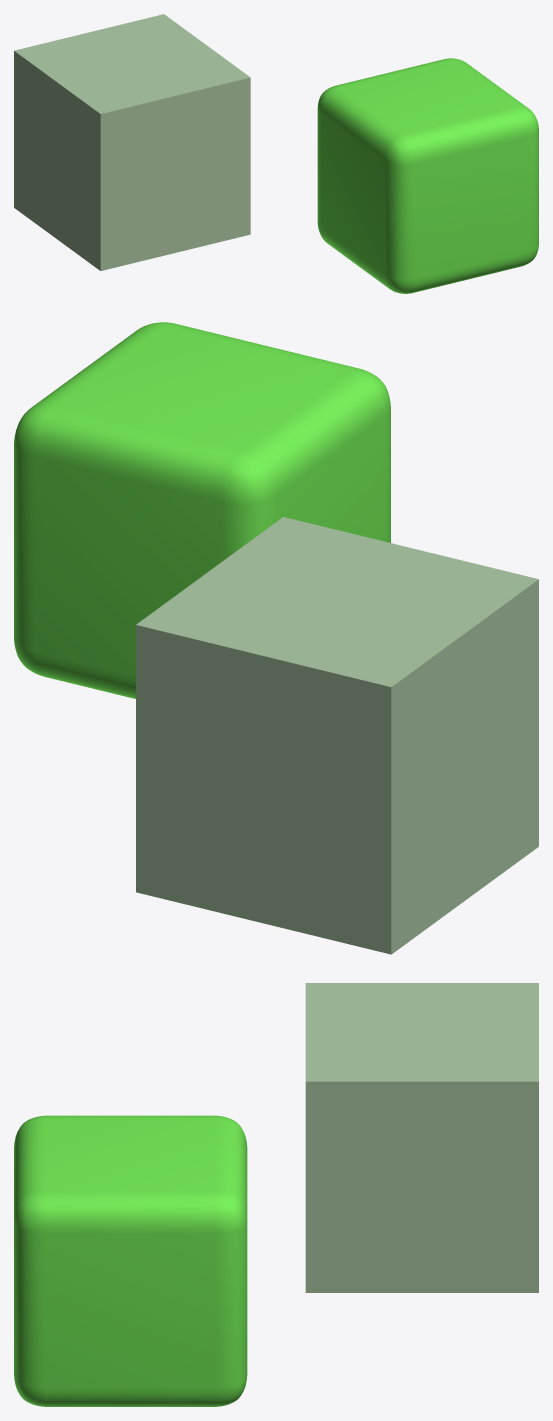
The model's file is biaisdecontour.gltf.
3 renders of one model, top to bottom at view 1: azimuth 30°, elevation 25°; view 2: azimuth 150°, elevation 25°; view 3: azimuth 270°, elevation 25°, orthographic. The views are drawn at different scales.
Parts seen in each view (by area): view 1: Box002, Box003; view 2: Box002, Box003; view 3: Box002, Box003.
Boxes of the visible parts, <box> form: Box002: <box>14,14,250,270</box>; Box003: <box>317,58,538,293</box>; Box002: <box>136,517,538,954</box>; Box003: <box>14,322,390,698</box>; Box002: <box>305,983,538,1292</box>; Box003: <box>14,1115,247,1406</box>.
Bounding box in the file's own units: 0.045 × 0.02 × 0.045.
